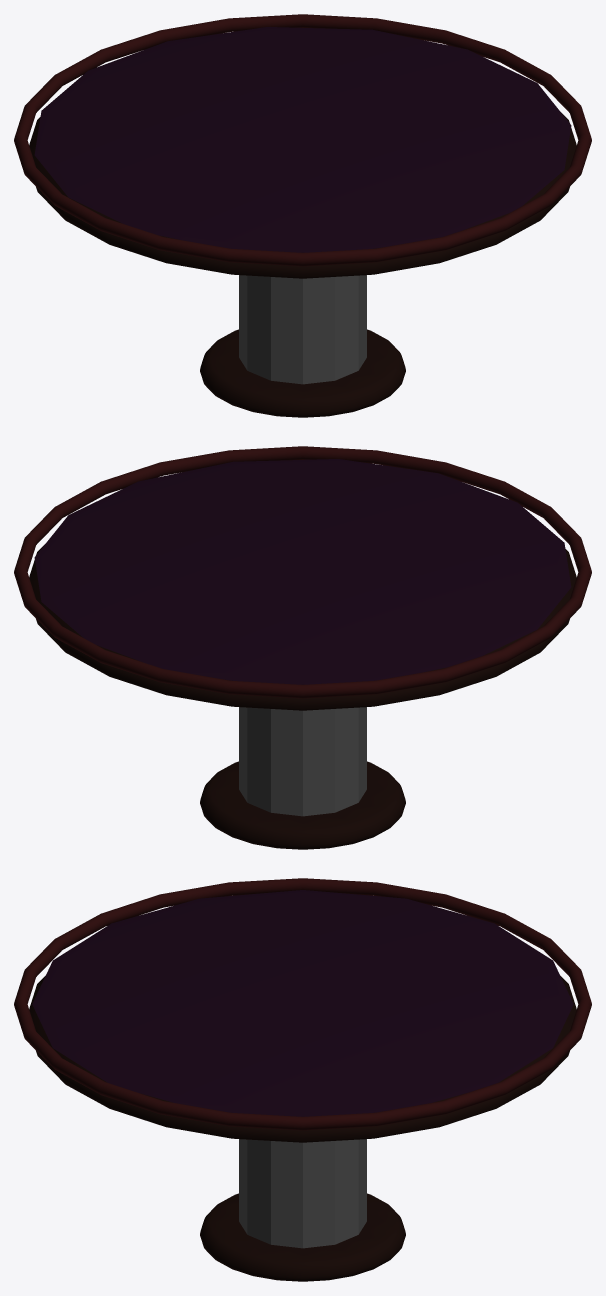
File: tablesmall.DAE
3 views of the same model, one above another, from view 1: azimuth 30°, elevation 25°; view 2: azimuth 150°, elevation 25°; view 3: azimuth 270°, elevation 25° (orthographic).
Visible parts, largest first — view 1: FBXASC051dSolid_ncl1_5, FBXASC051dSolid_ncl1_1, FBXASC051dSolid_ncl1_3, FBXASC051dSolid_ncl1_4, FBXASC051dSolid; view 2: FBXASC051dSolid_ncl1_5, FBXASC051dSolid_ncl1_1, FBXASC051dSolid_ncl1_3, FBXASC051dSolid_ncl1_4, FBXASC051dSolid; view 3: FBXASC051dSolid_ncl1_5, FBXASC051dSolid_ncl1_1, FBXASC051dSolid_ncl1_3, FBXASC051dSolid_ncl1_4, FBXASC051dSolid.
Part boxes in pixels (x1,y1,x2,y2): FBXASC051dSolid_ncl1_5: [34, 27, 571, 252]; FBXASC051dSolid_ncl1_1: [14, 14, 591, 266]; FBXASC051dSolid_ncl1_3: [239, 275, 366, 384]; FBXASC051dSolid_ncl1_4: [200, 329, 405, 417]; FBXASC051dSolid: [29, 112, 576, 278]; FBXASC051dSolid_ncl1_5: [34, 459, 571, 684]; FBXASC051dSolid_ncl1_1: [14, 446, 591, 698]; FBXASC051dSolid_ncl1_3: [239, 707, 366, 816]; FBXASC051dSolid_ncl1_4: [200, 761, 405, 849]; FBXASC051dSolid: [29, 544, 576, 710]; FBXASC051dSolid_ncl1_5: [32, 890, 573, 1116]; FBXASC051dSolid_ncl1_1: [14, 878, 591, 1130]; FBXASC051dSolid_ncl1_3: [239, 1139, 366, 1248]; FBXASC051dSolid_ncl1_4: [200, 1193, 405, 1281]; FBXASC051dSolid: [29, 976, 576, 1142].
Bounding box in the file's own units: 15.97 × 7.39 × 15.97.
